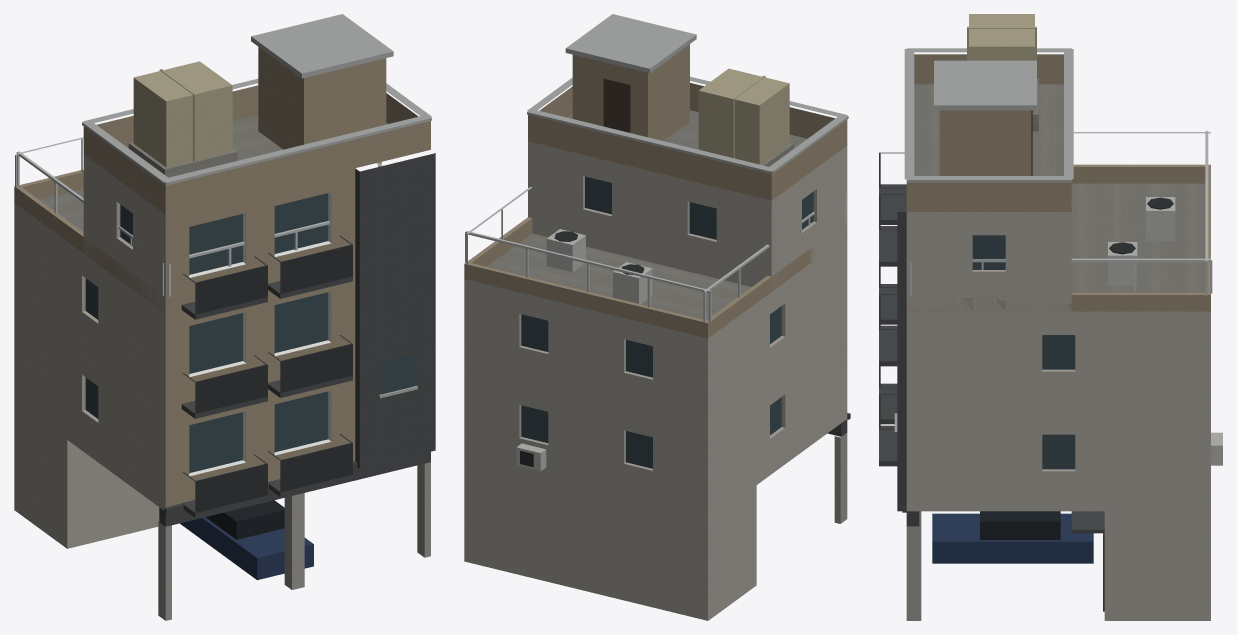
File: seoul_dagagu_00.glb
The picture shows the model from 3 angles, left to right: view 1: azimuth 30°, elevation 25°; view 2: azimuth 150°, elevation 25°; view 3: azimuth 270°, elevation 25°; orthographic projection. The views are drawn at different scales.
Visible parts, largest first — view 1: seoul_dagagu_00_LOD0; view 2: seoul_dagagu_00_LOD0; view 3: seoul_dagagu_00_LOD0.
Boxes of the visible parts, x1,y1,x2,y2 form: seoul_dagagu_00_LOD0: (14,14,435,620); seoul_dagagu_00_LOD0: (464,14,850,620); seoul_dagagu_00_LOD0: (879,14,1222,620).
Size of what is drawn, in the model's own units: 8.5 by 15.15 by 9.37.
5 materials, 2 textured.
